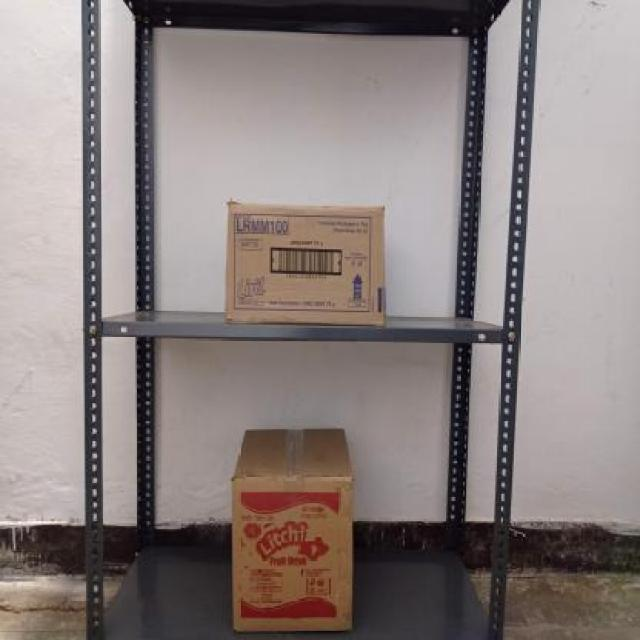box: (224, 200, 389, 325), (230, 469, 353, 634)
